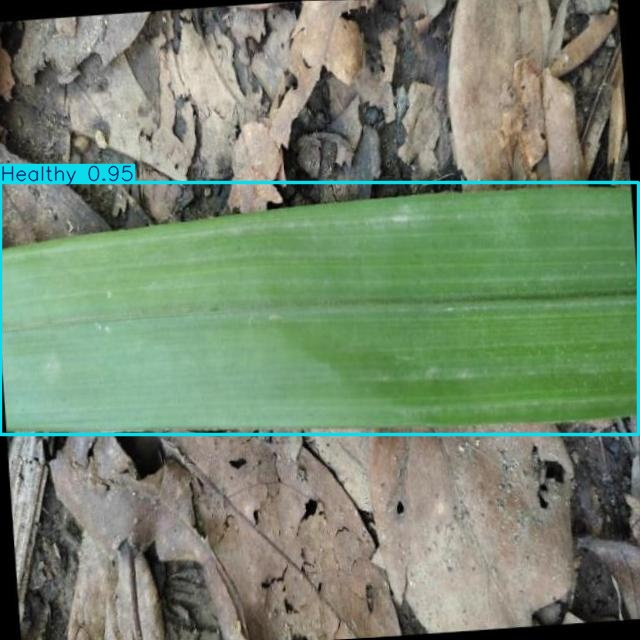Healthy: (0, 182, 639, 435)
